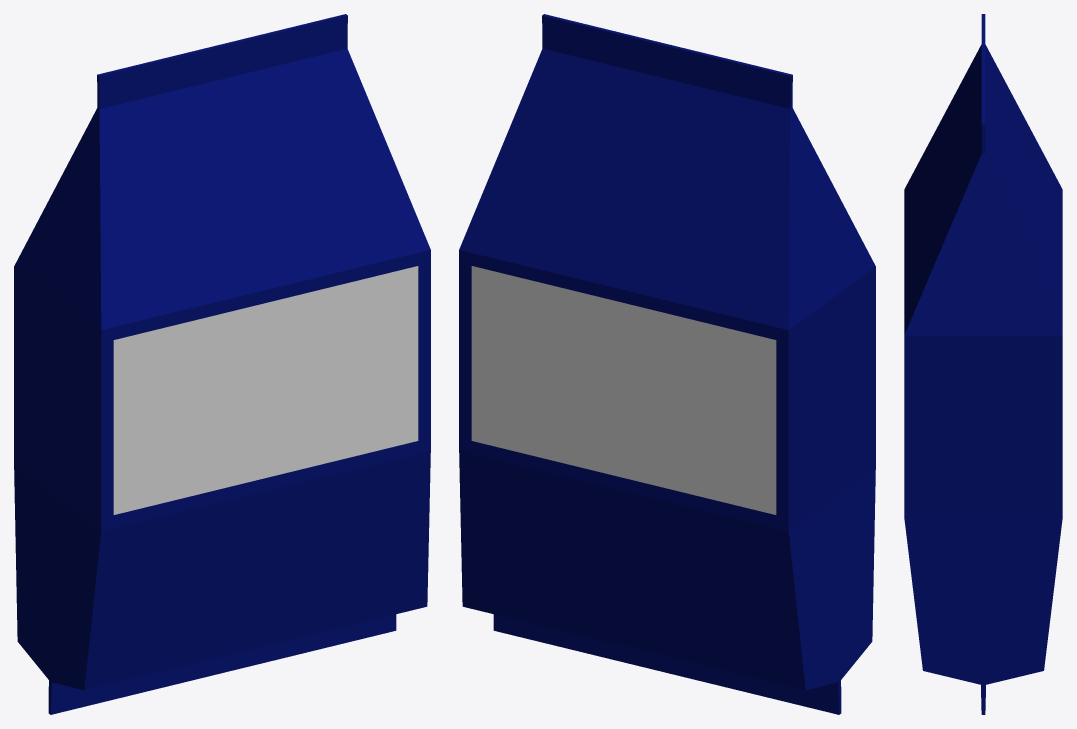
Rendered from Chips.fbx.
3 views of the same model, side by side, from view 1: azimuth 30°, elevation 25°; view 2: azimuth 150°, elevation 25°; view 3: azimuth 270°, elevation 25° (orthographic). The views are drawn at different scales.
Parts seen in each view (by area): view 1: Cube; view 2: Cube; view 3: Cube.
Part boxes in pixels (left/top/right/bottom): Cube: left=14, top=14, right=430, bottom=714; Cube: left=459, top=14, right=875, bottom=714; Cube: left=904, top=14, right=1062, bottom=714.
Bounding box in the file's own units: 279 × 483 × 122.
